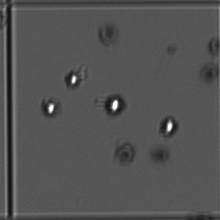Dead Cell: (199, 61, 220, 92), (95, 21, 121, 46), (112, 140, 138, 165), (146, 142, 172, 167), (206, 32, 220, 56)
Living Cell: (101, 92, 128, 117), (38, 95, 63, 119), (61, 67, 86, 91), (157, 114, 182, 138)
